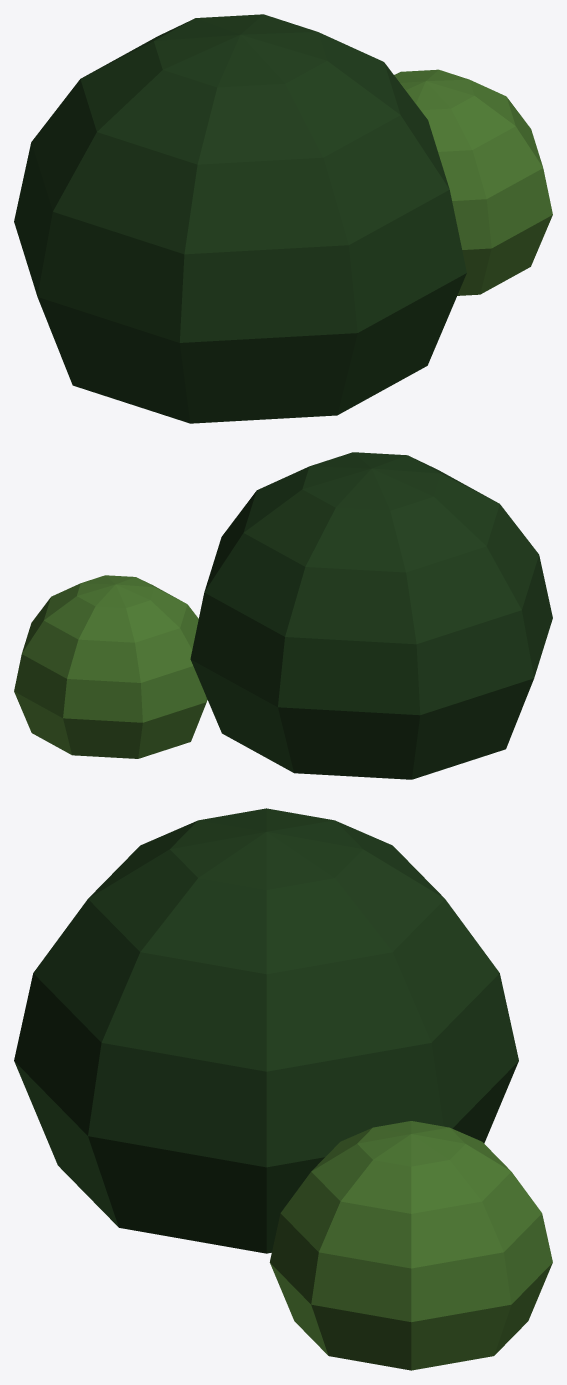
Rendered from D.cactuzinho.fbx.
3 renders of one model, top to bottom at view 1: azimuth 30°, elevation 25°; view 2: azimuth 150°, elevation 25°; view 3: azimuth 270°, elevation 25°, orthographic. The views are drawn at different scales.
Visible parts, largest first — view 1: pasted__pasted__pSphere2; view 2: pasted__pasted__pSphere2; view 3: pasted__pasted__pSphere2.
Boxes of the visible parts, box(x1,y1,x2,y2) form: pasted__pasted__pSphere2: box(14, 14, 552, 423); pasted__pasted__pSphere2: box(14, 452, 552, 779); pasted__pasted__pSphere2: box(14, 808, 552, 1370).
Size of the model in its own units: 1.73 by 0.9821 by 1.32.
